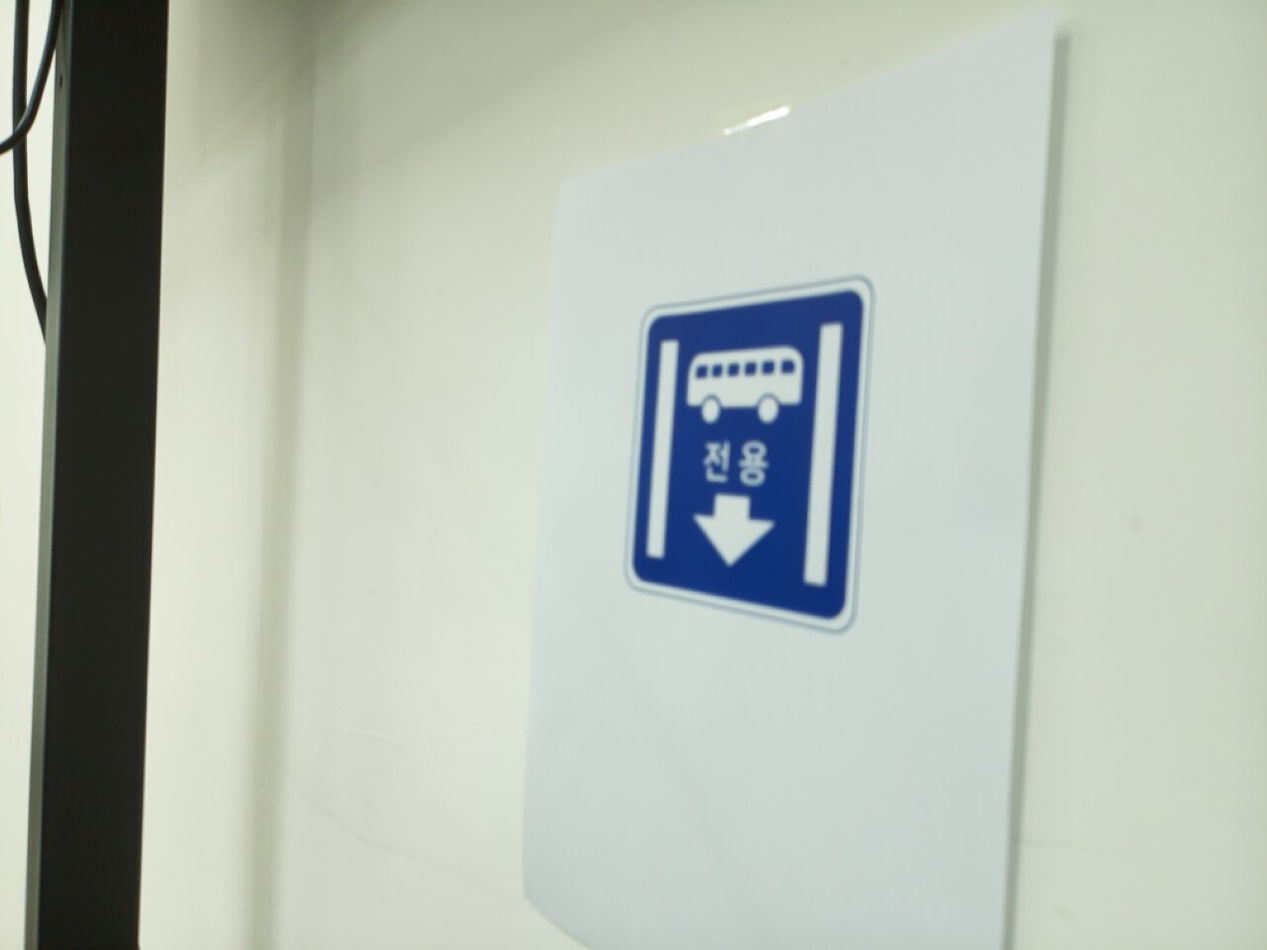bus_only_lane: (625, 281, 871, 629)
